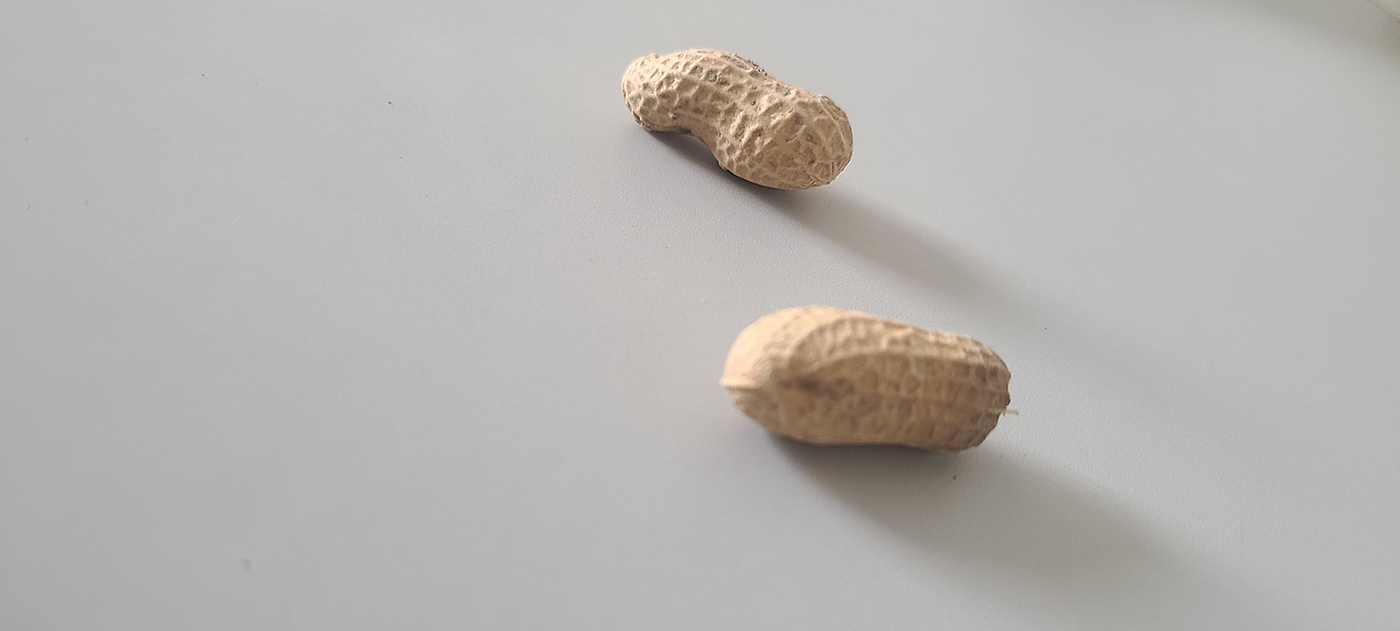h: (719, 303, 1013, 457), (621, 43, 854, 193)
